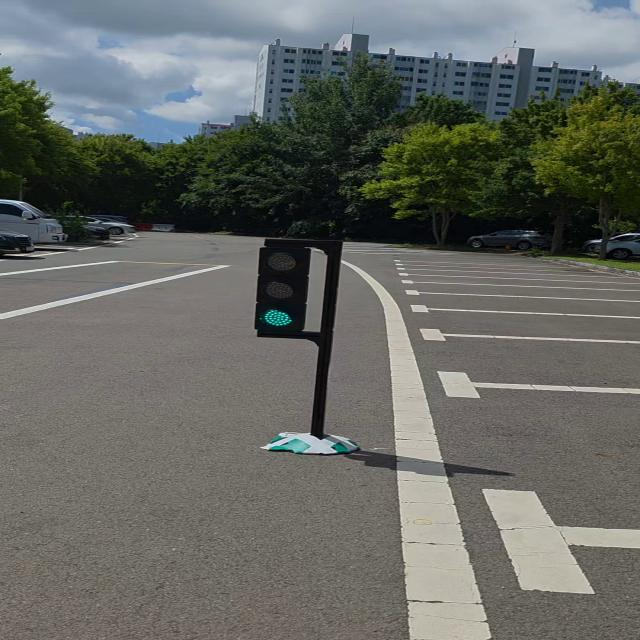green: (250, 234, 311, 339)
